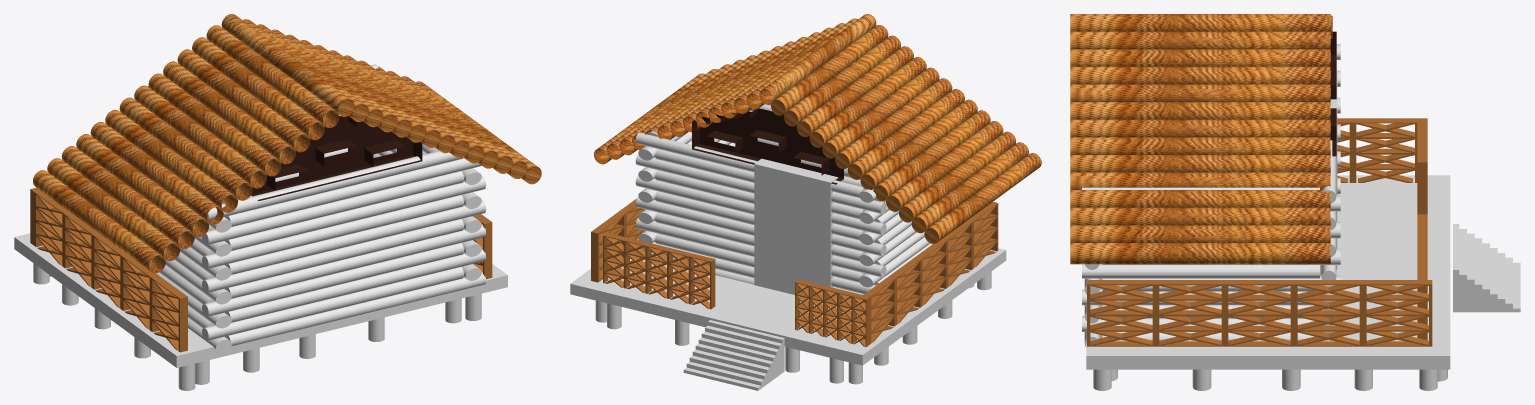
The picture shows the model from 3 angles, left to right: view 1: azimuth 30°, elevation 25°; view 2: azimuth 150°, elevation 25°; view 3: azimuth 270°, elevation 25°; orthographic projection. The views are drawn at different scales.
Parts seen in each view (by area): view 1: 円柱.017, 円柱; view 2: 円柱.017, 平面.001, 立方体.001, 円柱; view 3: 円柱.017, 立方体.001, 円柱.
Boxes of the visible parts, box(x1,y1,x2,y2) form: 円柱.017: box(14, 14, 541, 390); 円柱: box(156, 217, 231, 352); 円柱.017: box(570, 14, 1041, 384); 平面.001: box(754, 158, 838, 298); 立方体.001: box(683, 320, 784, 390); 円柱: box(859, 189, 932, 287); 円柱.017: box(1070, 14, 1450, 390); 立方体.001: box(1453, 224, 1520, 312); 円柱: box(1336, 44, 1340, 193).
Bounding box in the file's own units: 593 × 381 × 527.
